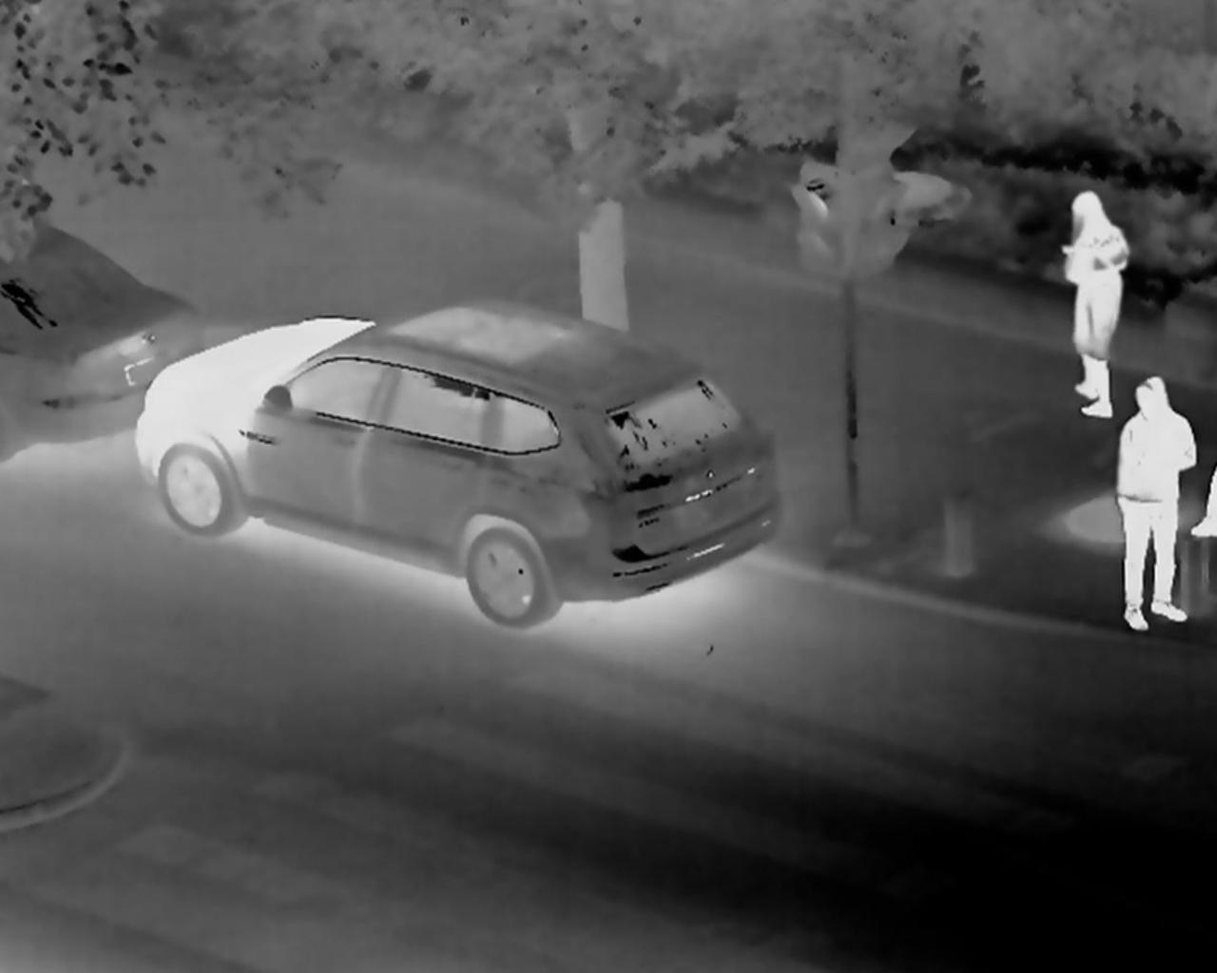person: (1105, 368, 1194, 633), (1057, 187, 1126, 423)
